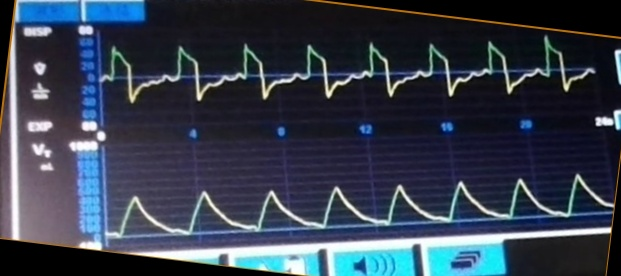Accumulation Flow: (104, 30, 594, 115)
Volume: (108, 161, 606, 239)
